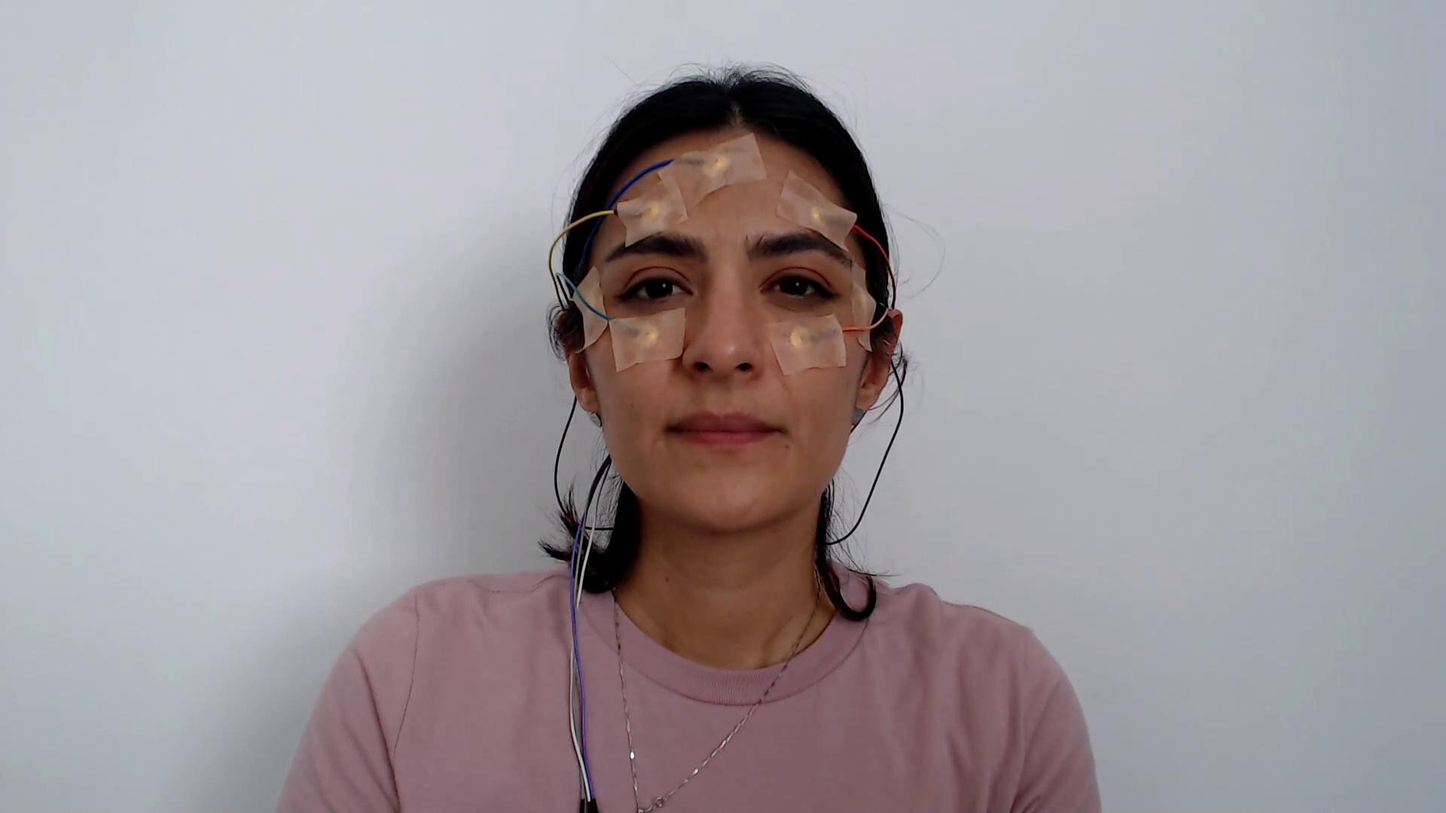Iris: (779, 277, 808, 294), (646, 279, 673, 297)
Ojos: (617, 266, 695, 305), (763, 265, 838, 304)
